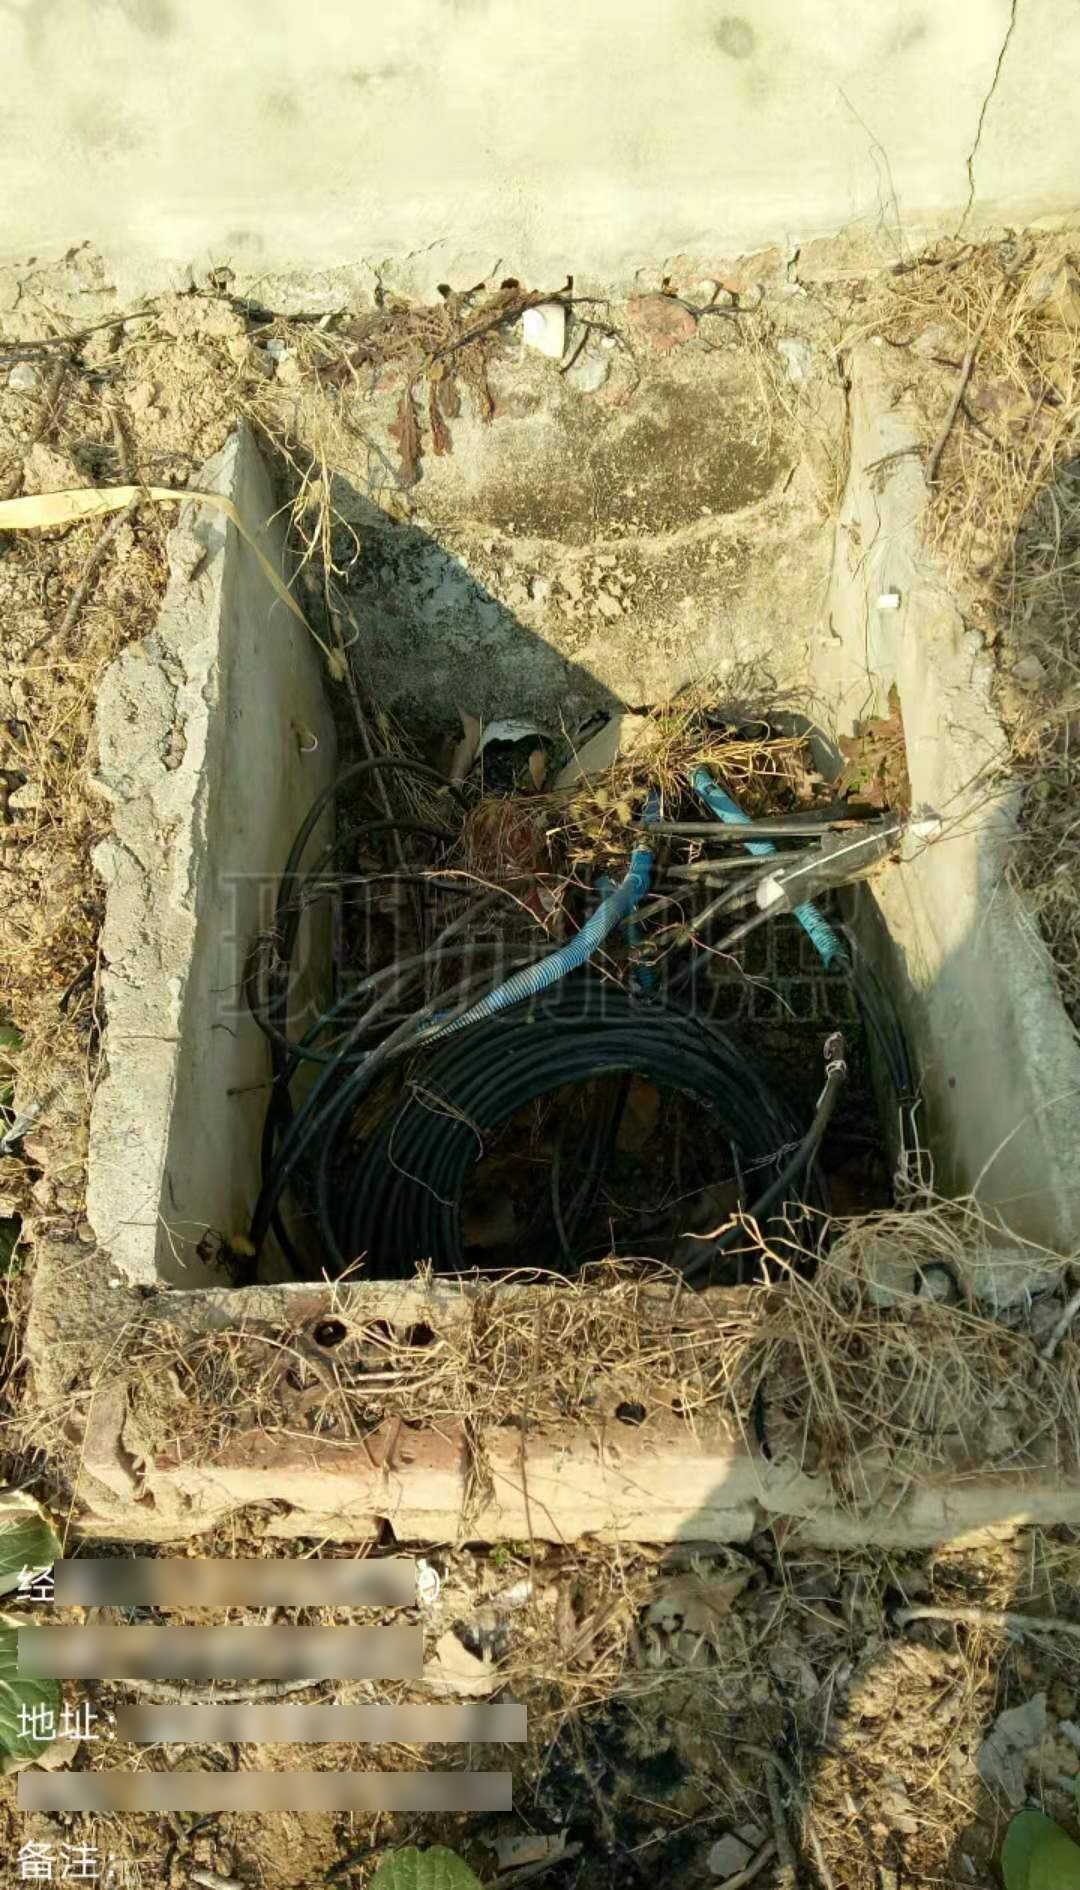lose: (151, 357, 1080, 1302)
